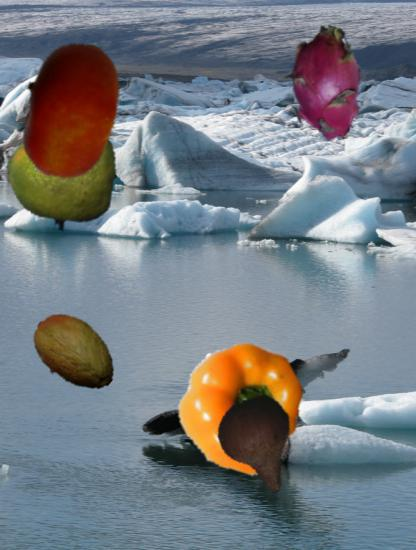Limes: (5, 122, 117, 234)
Nectarine: (1, 41, 139, 179)
Papaya: (28, 307, 121, 400)
Pear: (210, 396, 311, 497)
Pepper: (177, 344, 309, 476)
Pitahaya: (266, 25, 379, 138)
